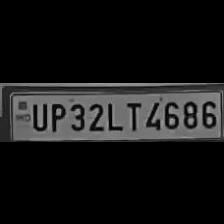2: (86, 98, 104, 132)
3: (66, 99, 86, 131)
4: (142, 97, 160, 131)
6: (160, 96, 180, 130), (198, 97, 216, 129)
8: (180, 97, 198, 129)
L: (104, 97, 122, 130)
P: (47, 98, 65, 132)
T: (122, 98, 142, 132)
U: (29, 99, 47, 130)
